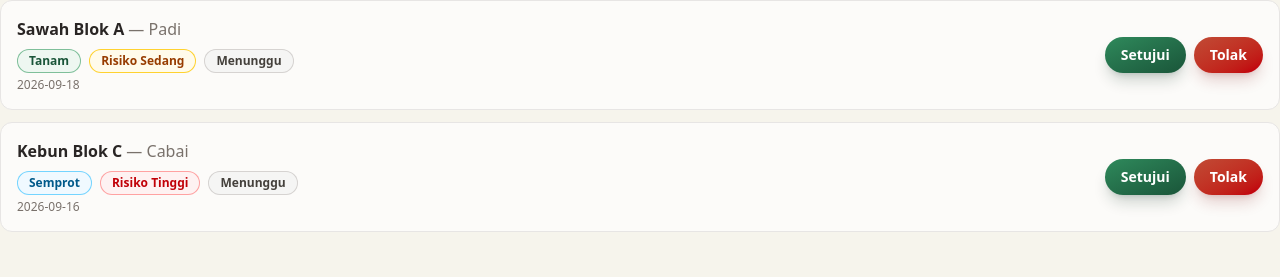
Test case: ValidationTableClient › 'Tolak' mengirim DITOLAK dan menampilkan pesan error dari server pada baris terkait
Step 1. Click the button "Tolak" in the row of "Risiko Sedang" → (1228, 55), box [1194,37,1263,73]
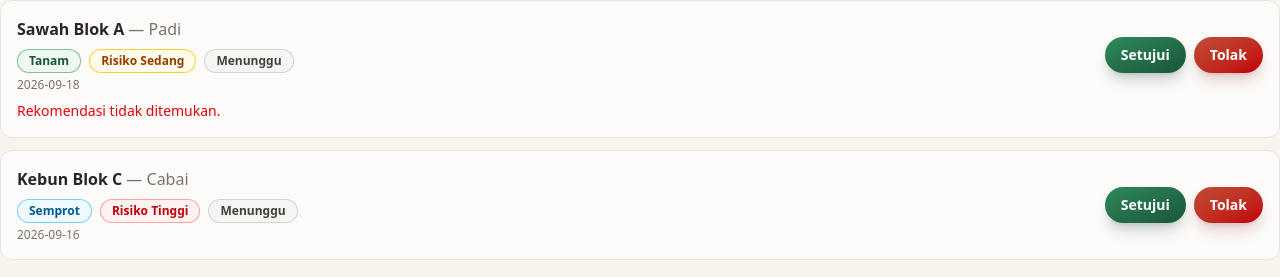
Check: the message reads "Rekomendasi tidak ditemukan.", box [17,101,220,120]
